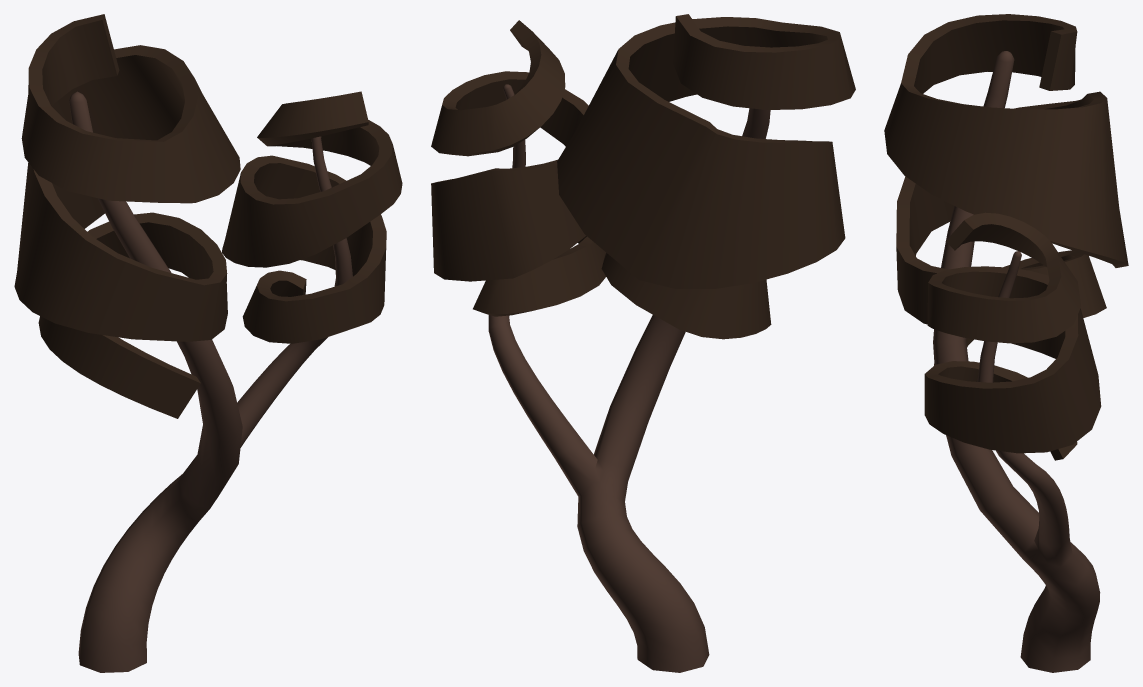
Rendered from quaternius-ultimate-space-pack-tree-spiral-2-transformed.glb.
3 renders of one model, left to right at view 1: azimuth 30°, elevation 25°; view 2: azimuth 150°, elevation 25°; view 3: azimuth 270°, elevation 25°, orthographic. The views are drawn at different scales.
Parts seen in each view (by area): view 1: Tree_Spiral_2; view 2: Tree_Spiral_2; view 3: Tree_Spiral_2.
Boxes of the visible parts, left/top/right/bottom form: Tree_Spiral_2: left=14, top=14, right=402, bottom=672; Tree_Spiral_2: left=431, top=14, right=855, bottom=672; Tree_Spiral_2: left=884, top=14, right=1128, bottom=672.
Size of the model in its own units: 3.8 by 6.19 by 2.2.
Materials: 1 (1 with a texture image).
